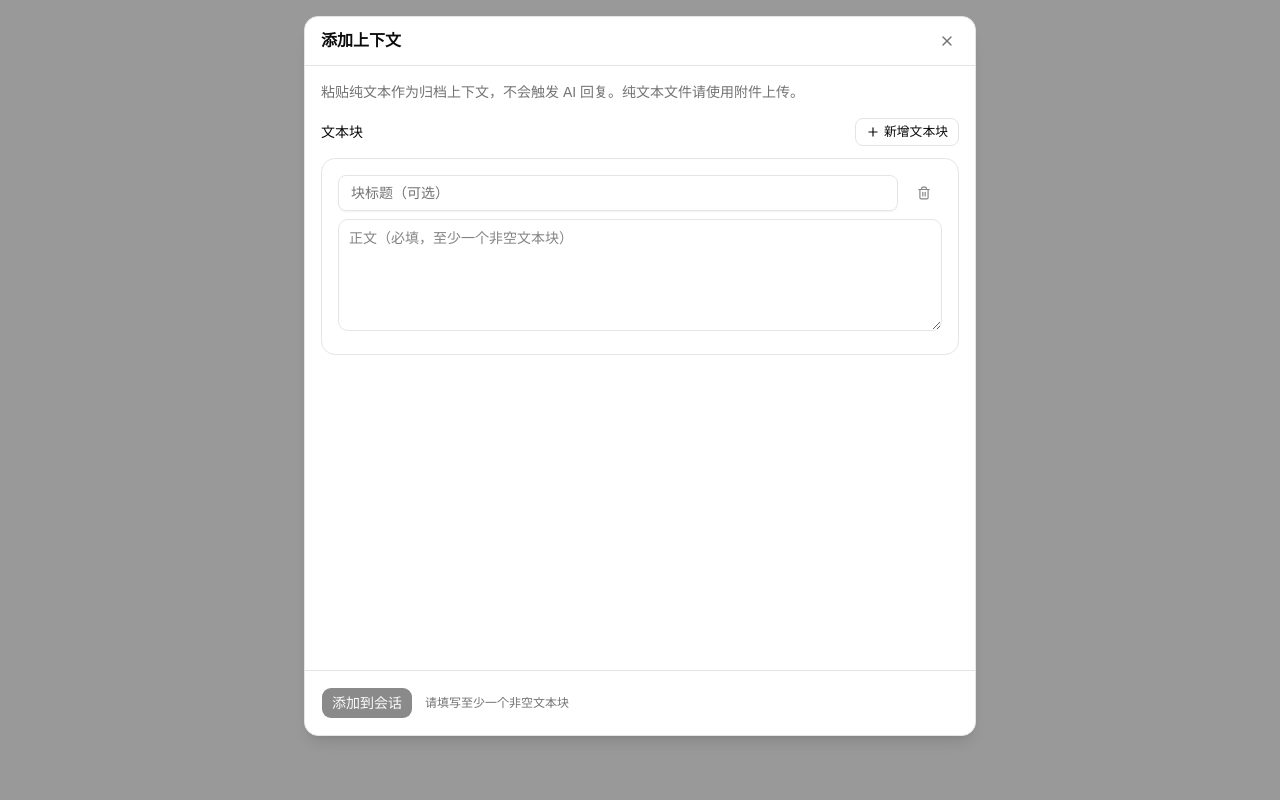
Test: ContextInputDialog › shows error when append fails
Expected: the element with test id "context-text-block-0" is shown, [321,158,959,355]
Type "Some text" into the text box with placeholder "正文（必填，至少一个非空文本块）". click: (640,275)
box: [338,219,942,331]
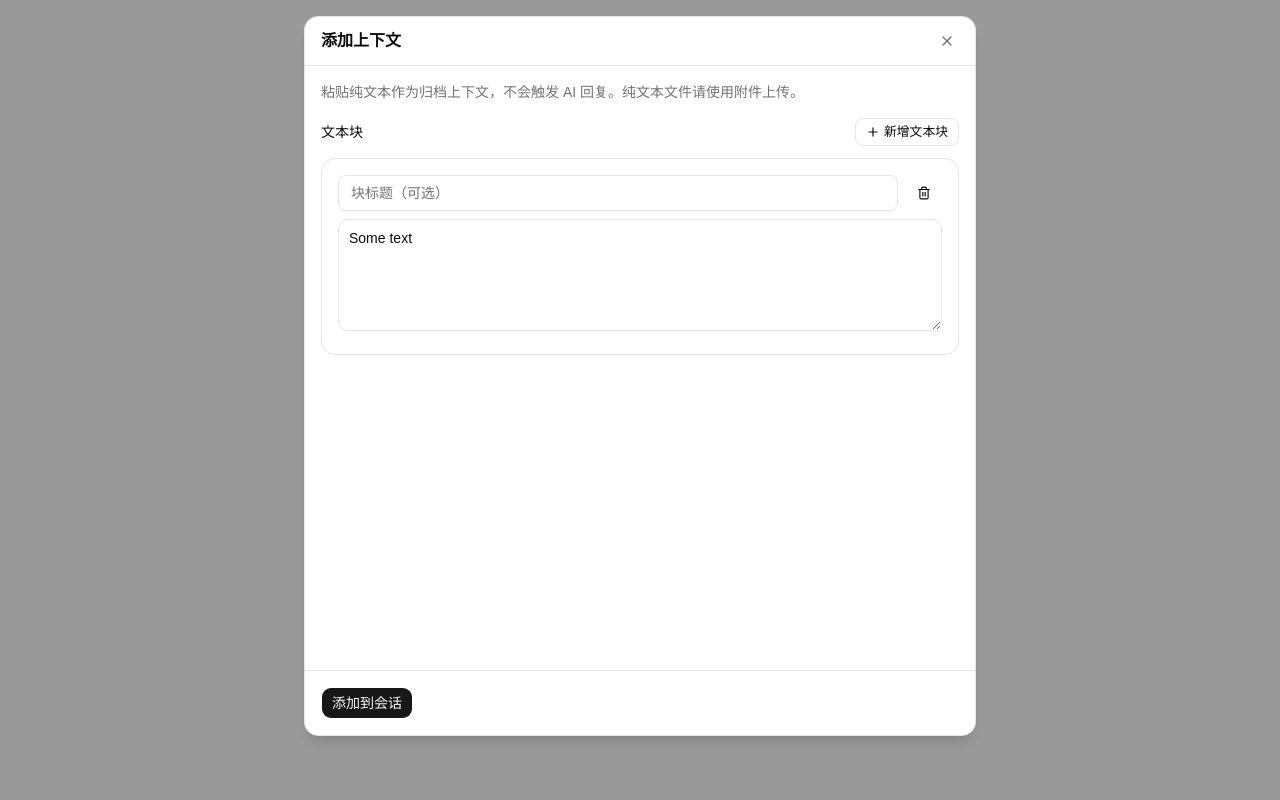
Click the button with test id "context-input-submit". click: (367,703)
box: [321,687,413,719]
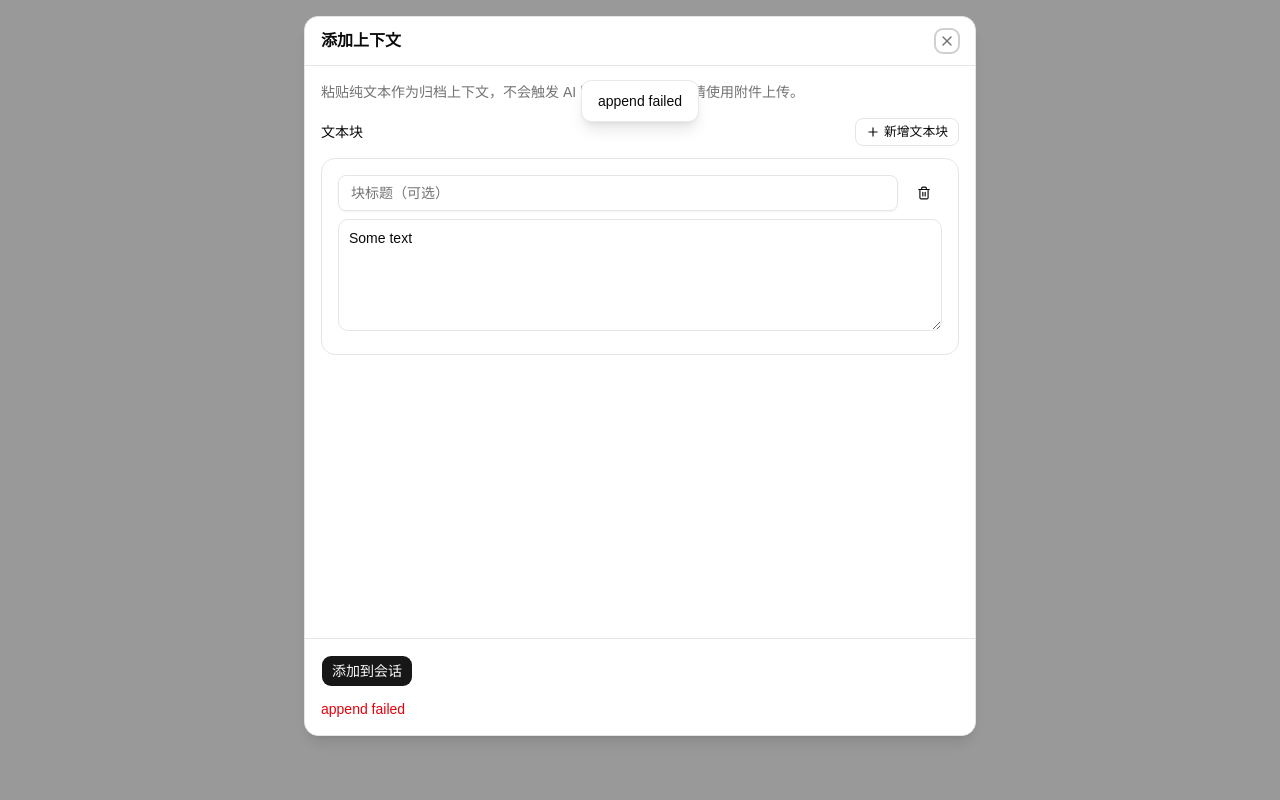
Result: the text with test id "context-input-error" reads "append failed" at [321,701,405,717]
